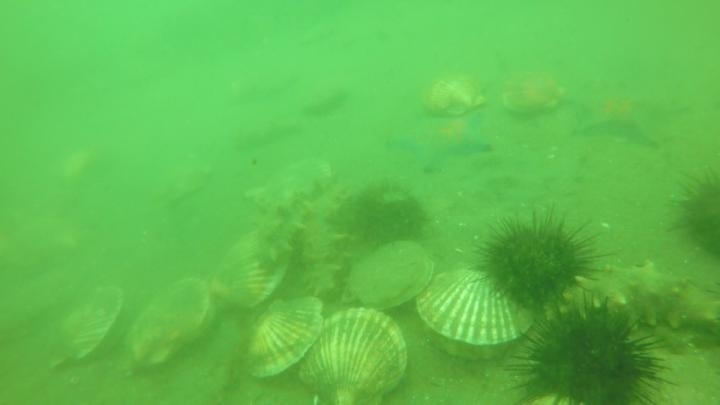echinus: (507, 297, 670, 405), (474, 207, 604, 316), (346, 181, 429, 250), (668, 165, 720, 262)
holothurian: (563, 259, 719, 338), (296, 179, 354, 303), (249, 185, 319, 270), (231, 114, 302, 152)
scallop: (412, 263, 541, 362), (295, 307, 413, 405), (121, 275, 218, 374), (241, 294, 328, 383), (205, 231, 293, 315), (344, 240, 437, 314), (49, 284, 128, 371), (246, 156, 336, 214), (499, 68, 570, 120), (419, 68, 489, 120), (152, 160, 213, 209), (300, 84, 351, 120)
starfish: (568, 82, 683, 150), (388, 109, 495, 174)
